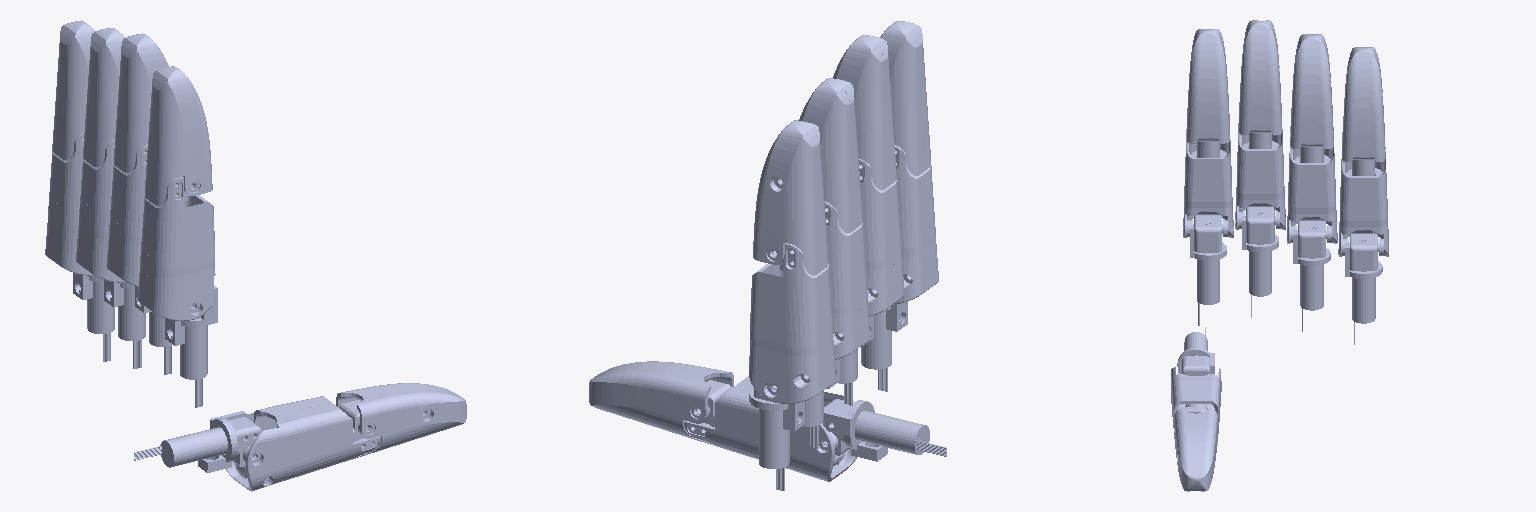
robot.urdf — left_gaiahand:
<?xml version="1.0" encoding="utf-8"?>
<!-- This URDF was automatically created by SolidWorks to URDF Exporter! Originally created by Stephen Brawner (brawner@gmail.com) 
     Commit Version: 1.6.0-4-g7f85cfe  Build Version: 1.6.7995.38578
     For more information, please see http://wiki.ros.org/sw_urdf_exporter -->
<robot
  name="left_gaiahand">
  <link
    name="left_base_link">
    <inertial>
      <origin
        xyz="-0.0284477492390247 0.000542790881224919 0.076706739748753"
        rpy="0 0 0" />
      <mass
        value="0.173722811353607" />
      <inertia
        ixx="0.000318190673792662"
        ixy="-1.91565322855582E-07"
        ixz="1.74042617609063E-05"
        iyy="0.000212901712165703"
        iyz="7.13837155170364E-07"
        izz="0.000130954384314833" />
    </inertial>
    <visual>
      <origin
        xyz="0 0 0"
        rpy="0 0 0" />
      <geometry>
        <mesh
          filename="meshes/left_base_link.STL" />
      </geometry>
      <material
        name="">
        <color
          rgba="0.792156862745098 0.819607843137255 0.933333333333333 1" />
      </material>
    </visual>
    <collision>
      <origin
        xyz="0 0 0"
        rpy="0 0 0" />
      <geometry>
        <mesh
          filename="meshes/left_base_link.STL" />
      </geometry>
    </collision>
  </link>
  <link
    name="left_thumb_link_1">
    <inertial>
      <origin
        xyz="0.00247402344171999 0.000249459798458924 0.00393402043351931"
        rpy="0 0 0" />
      <mass
        value="0.00397641751207284" />
      <inertia
        ixx="9.52539334417355E-08"
        ixy="-5.13338778559484E-09"
        ixz="-7.42287401161244E-09"
        iyy="1.0516919539407E-07"
        iyz="-5.02436651239461E-09"
        izz="9.48032374107921E-08" />
    </inertial>
    <visual>
      <origin
        xyz="0 0 0"
        rpy="0 0 0" />
      <geometry>
        <mesh
          filename="meshes/left_thumb_link_1.STL" />
      </geometry>
      <material
        name="">
        <color
          rgba="0.792156862745098 0.819607843137255 0.933333333333333 1" />
      </material>
    </visual>
    <collision>
      <origin
        xyz="0 0 0"
        rpy="0 0 0" />
      <geometry>
        <mesh
          filename="meshes/left_thumb_link_1.STL" />
      </geometry>
    </collision>
  </link>
  <joint
    name="left_thumb_joint_1"
    type="revolute">
    <origin
      xyz="0.011787 -0.033111 0.08849"
      rpy="1.4951E-05 -0.0036834 0" />
    <parent
      link="left_base_link" />
    <child
      link="left_thumb_link_1" />
    <axis
      xyz="0 0 1" />
    <limit
      lower="-1.05"
      upper="0.349"
      effort="0"
      velocity="0" />
  </joint>
  <link
    name="left_thumb_link_2">
    <inertial>
      <origin
        xyz="0.0265067811213511 -0.00399585693692422 0.000138895991577369"
        rpy="0 0 0" />
      <mass
        value="0.00875851577491426" />
      <inertia
        ixx="4.40292995417802E-07"
        ixy="-4.83371504097576E-08"
        ixz="5.01880663603282E-08"
        iyy="1.04274509553691E-06"
        iyz="2.17943184616637E-09"
        izz="1.27400277195124E-06" />
    </inertial>
    <visual>
      <origin
        xyz="0 0 0"
        rpy="0 0 0" />
      <geometry>
        <mesh
          filename="meshes/left_thumb_link_2.STL" />
      </geometry>
      <material
        name="">
        <color
          rgba="0.792156862745098 0.819607843137255 0.933333333333333 1" />
      </material>
    </visual>
    <collision>
      <origin
        xyz="0 0 0"
        rpy="0 0 0" />
      <geometry>
        <mesh
          filename="meshes/left_thumb_link_2.STL" />
      </geometry>
    </collision>
  </link>
  <joint
    name="left_thumb_joint_2"
    type="revolute">
    <origin
      xyz="0.013 0 0"
      rpy="1.5708 0 0" />
    <parent
      link="left_thumb_link_1" />
    <child
      link="left_thumb_link_2" />
    <axis
      xyz="0 0 1" />
    <limit
      lower="0"
      upper="1.05"
      effort="0"
      velocity="0" />
  </joint>
  <link
    name="left_thumb_link_3">
    <inertial>
      <origin
        xyz="0.0192830777791346 -0.00198397475349806 -0.000167205014019504"
        rpy="0 0 0" />
      <mass
        value="0.00409358650492291" />
      <inertia
        ixx="1.96807204522082E-07"
        ixy="3.86407695726891E-08"
        ixz="-2.649643192699E-09"
        iyy="6.67069325890553E-07"
        iyz="-1.83415949975503E-09"
        izz="8.03398335641798E-07" />
    </inertial>
    <visual>
      <origin
        xyz="0 0 0"
        rpy="0 0 0" />
      <geometry>
        <mesh
          filename="meshes/left_thumb_link_3.STL" />
      </geometry>
      <material
        name="">
        <color
          rgba="0.792156862745098 0.819607843137255 0.933333333333333 1" />
      </material>
    </visual>
    <collision>
      <origin
        xyz="0 0 0"
        rpy="0 0 0" />
      <geometry>
        <mesh
          filename="meshes/left_thumb_link_3.STL" />
      </geometry>
    </collision>
  </link>
  <joint
    name="left_thumb_joint_3"
    type="revolute">
    <origin
      xyz="0.047603 0 0"
      rpy="0 0 0" />
    <parent
      link="left_thumb_link_2" />
    <child
      link="left_thumb_link_3" />
    <axis
      xyz="0 0 1" />
    <limit
      lower="0"
      upper="1.57"
      effort="0"
      velocity="0" />
  </joint>
  <link
    name="left_index_link_1">
    <inertial>
      <origin
        xyz="0.00247402364993433 0.000249460126856879 0.00393402045604851"
        rpy="0 0 0" />
      <mass
        value="0.00397641756999917" />
      <inertia
        ixx="9.5253936720187E-08"
        ixy="-5.13338929494493E-09"
        ixz="-7.42287485418567E-09"
        iyy="1.05169196970933E-07"
        iyz="-5.0243665844397E-09"
        izz="9.4803240793605E-08" />
    </inertial>
    <visual>
      <origin
        xyz="0 0 0"
        rpy="0 0 0" />
      <geometry>
        <mesh
          filename="meshes/left_index_link_1.STL" />
      </geometry>
      <material
        name="">
        <color
          rgba="0.792156862745098 0.819607843137255 0.933333333333333 1" />
      </material>
    </visual>
    <collision>
      <origin
        xyz="0 0 0"
        rpy="0 0 0" />
      <geometry>
        <mesh
          filename="meshes/left_index_link_1.STL" />
      </geometry>
    </collision>
  </link>
  <joint
    name="left_index_joint_1"
    type="revolute">
    <origin
      xyz="0.0025677 -0.027928 0.13801"
      rpy="-3.1416 -1.5671 0" />
    <parent
      link="left_base_link" />
    <child
      link="left_index_link_1" />
    <axis
      xyz="0 0 1" />
    <limit
      lower="-0.262"
      upper="0.262"
      effort="0"
      velocity="0" />
  </joint>
  <link
    name="left_index_link_2">
    <inertial>
      <origin
        xyz="0.0265067812458975 -0.00399585697843308 0.000138896177086574"
        rpy="0 0 0" />
      <mass
        value="0.00875851587279157" />
      <inertia
        ixx="4.40293000445529E-07"
        ixy="-4.83371510161528E-08"
        ixz="5.01880650413538E-08"
        iyy="1.04274509841957E-06"
        iyz="2.17943282693837E-09"
        izz="1.27400277632651E-06" />
    </inertial>
    <visual>
      <origin
        xyz="0 0 0"
        rpy="0 0 0" />
      <geometry>
        <mesh
          filename="meshes/left_index_link_2.STL" />
      </geometry>
      <material
        name="">
        <color
          rgba="0.792156862745098 0.819607843137255 0.933333333333333 1" />
      </material>
    </visual>
    <collision>
      <origin
        xyz="0 0 0"
        rpy="0 0 0" />
      <geometry>
        <mesh
          filename="meshes/left_index_link_2.STL" />
      </geometry>
    </collision>
  </link>
  <joint
    name="left_index_joint_2"
    type="revolute">
    <origin
      xyz="0.013 0 0"
      rpy="1.5708 0 0" />
    <parent
      link="left_index_link_1" />
    <child
      link="left_index_link_2" />
    <axis
      xyz="0 0 1" />
    <limit
      lower="-0.349"
      upper="1.57"
      effort="0"
      velocity="0" />
  </joint>
  <link
    name="left_index_link_3">
    <inertial>
      <origin
        xyz="0.0192830994134968 -0.00198376763428931 -0.000167205801145938"
        rpy="0 0 0" />
      <mass
        value="0.004093586065221" />
      <inertia
        ixx="1.96806357873805E-07"
        ixy="3.86357010726856E-08"
        ixz="-2.64962689365868E-09"
        iyy="6.67070158147784E-07"
        iyz="-1.83418257848878E-09"
        izz="8.03398326627335E-07" />
    </inertial>
    <visual>
      <origin
        xyz="0 0 0"
        rpy="0 0 0" />
      <geometry>
        <mesh
          filename="meshes/left_index_link_3.STL" />
      </geometry>
      <material
        name="">
        <color
          rgba="0.792156862745098 0.819607843137255 0.933333333333333 1" />
      </material>
    </visual>
    <collision>
      <origin
        xyz="0 0 0"
        rpy="0 0 0" />
      <geometry>
        <mesh
          filename="meshes/left_index_link_3.STL" />
      </geometry>
    </collision>
  </link>
  <joint
    name="left_index_joint_3"
    type="revolute">
    <origin
      xyz="0.047603 0 0"
      rpy="0 0 0" />
    <parent
      link="left_index_link_2" />
    <child
      link="left_index_link_3" />
    <axis
      xyz="0 0 1" />
    <limit
      lower="0"
      upper="1.57"
      effort="0"
      velocity="0" />
  </joint>
  <link
    name="left_middle_link_1">
    <inertial>
      <origin
        xyz="0.00247402364993506 0.000249460126853958 0.00393402045605029"
        rpy="0 0 0" />
      <mass
        value="0.00397641756999916" />
      <inertia
        ixx="9.52539367201855E-08"
        ixy="-5.13338929494586E-09"
        ixz="-7.42287485418621E-09"
        iyy="1.05169196970934E-07"
        iyz="-5.02436658443915E-09"
        izz="9.48032407936072E-08" />
    </inertial>
    <visual>
      <origin
        xyz="0 0 0"
        rpy="0 0 0" />
      <geometry>
        <mesh
          filename="meshes/left_middle_link_1.STL" />
      </geometry>
      <material
        name="">
        <color
          rgba="0.792156862745098 0.819607843137255 0.933333333333333 1" />
      </material>
    </visual>
    <collision>
      <origin
        xyz="0 0 0"
        rpy="0 0 0" />
      <geometry>
        <mesh
          filename="meshes/left_middle_link_1.STL" />
      </geometry>
    </collision>
  </link>
  <joint
    name="left_middle_joint_1"
    type="revolute">
    <origin
      xyz="0.0025677 -0.0057234 0.14197"
      rpy="-3.1416 -1.5671 0" />
    <parent
      link="left_base_link" />
    <child
      link="left_middle_link_1" />
    <axis
      xyz="0 0 1" />
    <limit
      lower="-0.401"
      upper="0.314"
      effort="0"
      velocity="0" />
  </joint>
  <link
    name="left_middle_link_2">
    <inertial>
      <origin
        xyz="0.026506781289745 -0.00399585694636873 0.000138896146654036"
        rpy="0 0 0" />
      <mass
        value="0.00875851582996083" />
      <inertia
        ixx="4.40292998690411E-07"
        ixy="-4.83371496718386E-08"
        ixz="5.01880648745607E-08"
        iyy="1.04274509839018E-06"
        iyz="2.17943192946917E-09"
        izz="1.27400277291926E-06" />
    </inertial>
    <visual>
      <origin
        xyz="0 0 0"
        rpy="0 0 0" />
      <geometry>
        <mesh
          filename="meshes/left_middle_link_2.STL" />
      </geometry>
      <material
        name="">
        <color
          rgba="0.792156862745098 0.819607843137255 0.933333333333333 1" />
      </material>
    </visual>
    <collision>
      <origin
        xyz="0 0 0"
        rpy="0 0 0" />
      <geometry>
        <mesh
          filename="meshes/left_middle_link_2.STL" />
      </geometry>
    </collision>
  </link>
  <joint
    name="left_middle_joint_2"
    type="revolute">
    <origin
      xyz="0.013 0 0"
      rpy="1.5708 0 0" />
    <parent
      link="left_middle_link_1" />
    <child
      link="left_middle_link_2" />
    <axis
      xyz="0 0 1" />
    <limit
      lower="-0.349"
      upper="1.57"
      effort="0"
      velocity="0" />
  </joint>
  <link
    name="left_middle_link_3">
    <inertial>
      <origin
        xyz="0.0192830991538157 -0.0019837671038605 -0.00016720500504246"
        rpy="0 0 0" />
      <mass
        value="0.00409358650689472" />
      <inertia
        ixx="1.9680637230401E-07"
        ixy="3.86357057253407E-08"
        ixz="-2.64962339335825E-09"
        iyy="6.67070158814771E-07"
        iyz="-1.8341880442882E-09"
        izz="8.03398336401037E-07" />
    </inertial>
    <visual>
      <origin
        xyz="0 0 0"
        rpy="0 0 0" />
      <geometry>
        <mesh
          filename="meshes/left_middle_link_3.STL" />
      </geometry>
      <material
        name="">
        <color
          rgba="0.792156862745098 0.819607843137255 0.933333333333333 1" />
      </material>
    </visual>
    <collision>
      <origin
        xyz="0 0 0"
        rpy="0 0 0" />
      <geometry>
        <mesh
          filename="meshes/left_middle_link_3.STL" />
      </geometry>
    </collision>
  </link>
  <joint
    name="left_middle_joint_3"
    type="revolute">
    <origin
      xyz="0.047603 0 0"
      rpy="0 0 0" />
    <parent
      link="left_middle_link_2" />
    <child
      link="left_middle_link_3" />
    <axis
      xyz="0 0 1" />
    <limit
      lower="0"
      upper="1.57"
      effort="0"
      velocity="0" />
  </joint>
  <link
    name="left_ring_link_1">
    <inertial>
      <origin
        xyz="0.0024740236263075 0.000249460126857021 0.00393402039359114"
        rpy="0 0 0" />
      <mass
        value="0.00397641756999935" />
      <inertia
        ixx="9.52539368082794E-08"
        ixy="-5.1333892651324E-09"
        ixz="-7.42287485151211E-09"
        iyy="1.05169196970936E-07"
        iyz="-5.0243666148998E-09"
        izz="9.48032407055177E-08" />
    </inertial>
    <visual>
      <origin
        xyz="0 0 0"
        rpy="0 0 0" />
      <geometry>
        <mesh
          filename="meshes/left_ring_link_1.STL" />
      </geometry>
      <material
        name="">
        <color
          rgba="0.792156862745098 0.819607843137255 0.933333333333333 1" />
      </material>
    </visual>
    <collision>
      <origin
        xyz="0 0 0"
        rpy="0 0 0" />
      <geometry>
        <mesh
          filename="meshes/left_ring_link_1.STL" />
      </geometry>
    </collision>
  </link>
  <joint
    name="left_ring_joint_1"
    type="revolute">
    <origin
      xyz="0.0025677 0.016251 0.13545"
      rpy="-3.1416 -1.5671 0" />
    <parent
      link="left_base_link" />
    <child
      link="left_ring_link_1" />
    <axis
      xyz="0 0 1" />
    <limit
      lower="-0.349"
      upper="0.175"
      effort="0"
      velocity="0" />
  </joint>
  <link
    name="left_ring_link_2">
    <inertial>
      <origin
        xyz="0.0265067813134706 -0.00399585678908432 0.00013889614665224"
        rpy="0 0 0" />
      <mass
        value="0.00875851582996085" />
      <inertia
        ixx="4.40292999264048E-07"
        ixy="-4.83371532466806E-08"
        ixz="5.01880648616304E-08"
        iyy="1.0427450978166E-06"
        iyz="2.17943222727404E-09"
        izz="1.27400277291932E-06" />
    </inertial>
    <visual>
      <origin
        xyz="0 0 0"
        rpy="0 0 0" />
      <geometry>
        <mesh
          filename="meshes/left_ring_link_2.STL" />
      </geometry>
      <material
        name="">
        <color
          rgba="0.792156862745098 0.819607843137255 0.933333333333333 1" />
      </material>
    </visual>
    <collision>
      <origin
        xyz="0 0 0"
        rpy="0 0 0" />
      <geometry>
        <mesh
          filename="meshes/left_ring_link_2.STL" />
      </geometry>
    </collision>
  </link>
  <joint
    name="left_ring_joint_2"
    type="revolute">
    <origin
      xyz="0.013 0 0"
      rpy="1.5708 0 0" />
    <parent
      link="left_ring_link_1" />
    <child
      link="left_ring_link_2" />
    <axis
      xyz="0 0 1" />
    <limit
      lower="-0.349"
      upper="1.57"
      effort="0"
      velocity="0" />
  </joint>
  <link
    name="left_ring_link_3">
    <inertial>
      <origin
        xyz="0.0192830997770847 -0.00198376670697287 -0.000167205005045462"
        rpy="0 0 0" />
      <mass
        value="0.00409358650689493" />
      <inertia
        ixx="1.9680637184551E-07"
        ixy="3.86357029349086E-08"
        ixz="-2.64962338247208E-09"
        iyy="6.67070159273325E-07"
        iyz="-1.83418806000956E-09"
        izz="8.03398336401086E-07" />
    </inertial>
    <visual>
      <origin
        xyz="0 0 0"
        rpy="0 0 0" />
      <geometry>
        <mesh
          filename="meshes/left_ring_link_3.STL" />
      </geometry>
      <material
        name="">
        <color
          rgba="0.792156862745098 0.819607843137255 0.933333333333333 1" />
      </material>
    </visual>
    <collision>
      <origin
        xyz="0 0 0"
        rpy="0 0 0" />
      <geometry>
        <mesh
          filename="meshes/left_ring_link_3.STL" />
      </geometry>
    </collision>
  </link>
  <joint
    name="left_ring_joint_3"
    type="revolute">
    <origin
      xyz="0.047603 0 0"
      rpy="0 0 0" />
    <parent
      link="left_ring_link_2" />
    <child
      link="left_ring_link_3" />
    <axis
      xyz="0 0 1" />
    <limit
      lower="0"
      upper="1.57"
      effort="0"
      velocity="0" />
  </joint>
  <link
    name="left_little_link_1">
    <inertial>
      <origin
        xyz="0.00247399557678699 0.000249460126865136 0.0039263989050613"
        rpy="0 0 0" />
      <mass
        value="0.0039764175699993" />
      <inertia
        ixx="9.52539367201893E-08"
        ixy="-5.13338929494489E-09"
        ixz="-7.42287485418595E-09"
        iyy="1.05169196970934E-07"
        iyz="-5.02436658444048E-09"
        izz="9.48032407936053E-08" />
    </inertial>
    <visual>
      <origin
        xyz="0 0 0"
        rpy="0 0 0" />
      <geometry>
        <mesh
          filename="meshes/left_little_link_1.STL" />
      </geometry>
      <material
        name="">
        <color
          rgba="0.792156862745098 0.819607843137255 0.933333333333333 1" />
      </material>
    </visual>
    <collision>
      <origin
        xyz="0 0 0"
        rpy="0 0 0" />
      <geometry>
        <mesh
          filename="meshes/left_little_link_1.STL" />
      </geometry>
    </collision>
  </link>
  <joint
    name="left_little_joint_1"
    type="revolute">
    <origin
      xyz="0.0025753 0.038291 0.12931"
      rpy="-3.1416 -1.5671 0" />
    <parent
      link="left_base_link" />
    <child
      link="left_little_link_1" />
    <axis
      xyz="0 0 1" />
    <limit
      lower="-0.349"
      upper="0.105"
      effort="0"
      velocity="0" />
  </joint>
  <link
    name="left_little_link_2">
    <inertial>
      <origin
        xyz="0.026506781289759 -0.00399585694637161 0.000138896146645095"
        rpy="0 0 0" />
      <mass
        value="0.00875851582996412" />
      <inertia
        ixx="4.4029299869061E-07"
        ixy="-4.83371496722441E-08"
        ixz="5.01880648745521E-08"
        iyy="1.04274509839081E-06"
        iyz="2.17943192947393E-09"
        izz="1.27400277292006E-06" />
    </inertial>
    <visual>
      <origin
        xyz="0 0 0"
        rpy="0 0 0" />
      <geometry>
        <mesh
          filename="meshes/left_little_link_2.STL" />
      </geometry>
      <material
        name="">
        <color
          rgba="0.792156862745098 0.819607843137255 0.933333333333333 1" />
      </material>
    </visual>
    <collision>
      <origin
        xyz="0 0 0"
        rpy="0 0 0" />
      <geometry>
        <mesh
          filename="meshes/left_little_link_2.STL" />
      </geometry>
    </collision>
  </link>
  <joint
    name="left_little_joint_2"
    type="revolute">
    <origin
      xyz="0.013 0 0"
      rpy="1.5708 0 0" />
    <parent
      link="left_little_link_1" />
    <child
      link="left_little_link_2" />
    <axis
      xyz="0 0 1" />
    <limit
      lower="-0.349"
      upper="1.57"
      effort="0"
      velocity="0" />
  </joint>
  <link
    name="left_little_link_3">
    <inertial>
      <origin
        xyz="0.0192830994134845 -0.0019837676342862 -0.000167205801153508"
        rpy="0 0 0" />
      <mass
        value="0.00409358606522048" />
      <inertia
        ixx="1.96806357873775E-07"
        ixy="3.86357010726577E-08"
        ixz="-2.64962689365451E-09"
        iyy="6.67070158147717E-07"
        iyz="-1.83418257849705E-09"
        izz="8.03398326627241E-07" />
    </inertial>
    <visual>
      <origin
        xyz="0 0 0"
        rpy="0 0 0" />
      <geometry>
        <mesh
          filename="meshes/left_little_link_3.STL" />
      </geometry>
      <material
        name="">
        <color
          rgba="0.792156862745098 0.819607843137255 0.933333333333333 1" />
      </material>
    </visual>
    <collision>
      <origin
        xyz="0 0 0"
        rpy="0 0 0" />
      <geometry>
        <mesh
          filename="meshes/left_little_link_3.STL" />
      </geometry>
    </collision>
  </link>
  <joint
    name="left_little_joint_3"
    type="revolute">
    <origin
      xyz="0.047603 0 0"
      rpy="0 0 0" />
    <parent
      link="left_little_link_2" />
    <child
      link="left_little_link_3" />
    <axis
      xyz="0 0 1" />
    <limit
      lower="0"
      upper="1.57"
      effort="0"
      velocity="0" />
  </joint>
</robot>

--- What the picture shows (computed from the rendered views, not written in the file) ---
3 views of the same robot in one strip: view 1: azimuth 30°, elevation 25°; view 2: azimuth 150°, elevation 25°; view 3: azimuth 270°, elevation 25° (orthographic).
Robot: left_gaiahand — 16 links, 15 joints (15 revolute); root link left_base_link; default pose: every joint at zero.
Links seen in each view (by area): view 1: left_index_link_2, left_thumb_link_2, left_index_link_3, left_thumb_link_3, left_middle_link_3, left_little_link_3, left_ring_link_3, left_thumb_link_1, left_middle_link_2, left_ring_link_2, left_little_link_2, left_index_link_1 (+3 smaller); view 2: left_little_link_2, left_little_link_3, left_thumb_link_3, left_thumb_link_2, left_middle_link_3, left_ring_link_3, left_index_link_3, left_ring_link_2, left_middle_link_2, left_index_link_2, left_thumb_link_1, left_little_link_1 (+3 smaller); view 3: left_ring_link_3, left_little_link_3, left_middle_link_3, left_index_link_3, left_index_link_2, left_ring_link_2, left_middle_link_2, left_little_link_2, left_thumb_link_3, left_ring_link_1, left_little_link_1, left_index_link_1 (+3 smaller).
Link boxes in pixels (bbox=[...]): left_index_link_2: bbox=[137, 177, 215, 320]; left_thumb_link_2: bbox=[226, 396, 380, 491]; left_index_link_3: bbox=[145, 66, 212, 205]; left_thumb_link_3: bbox=[336, 383, 466, 459]; left_middle_link_3: bbox=[114, 33, 168, 172]; left_little_link_3: bbox=[52, 20, 94, 159]; left_ring_link_3: bbox=[83, 28, 124, 166]; left_thumb_link_1: bbox=[134, 411, 260, 472]; left_middle_link_2: bbox=[106, 145, 147, 286]; left_ring_link_2: bbox=[76, 140, 124, 282]; left_little_link_2: bbox=[45, 133, 92, 275]; left_index_link_1: bbox=[165, 286, 217, 407]; left_little_link_2: bbox=[749, 243, 835, 403]; left_little_link_3: bbox=[753, 120, 828, 275]; left_thumb_link_3: bbox=[589, 361, 733, 446]; left_thumb_link_2: bbox=[684, 376, 856, 481]; left_middle_link_3: bbox=[833, 35, 896, 189]; left_ring_link_3: bbox=[799, 78, 862, 232]; left_index_link_3: bbox=[880, 21, 930, 175]; left_ring_link_2: bbox=[825, 202, 870, 359]; left_middle_link_2: bbox=[859, 159, 904, 316]; left_index_link_2: bbox=[893, 145, 938, 304]; left_thumb_link_1: bbox=[822, 399, 946, 461]; left_little_link_1: bbox=[749, 384, 804, 490]; left_ring_link_3: bbox=[1290, 34, 1333, 148]; left_little_link_3: bbox=[1342, 47, 1385, 162]; left_middle_link_3: bbox=[1239, 20, 1281, 135]; left_index_link_3: bbox=[1187, 29, 1229, 143]; left_index_link_2: bbox=[1183, 129, 1233, 237]; left_ring_link_2: bbox=[1287, 126, 1337, 243]; left_middle_link_2: bbox=[1235, 123, 1285, 229]; left_little_link_2: bbox=[1338, 132, 1388, 256]; left_thumb_link_3: bbox=[1174, 408, 1217, 491]; left_ring_link_1: bbox=[1293, 221, 1330, 331]; left_little_link_1: bbox=[1345, 234, 1382, 344]; left_index_link_1: bbox=[1190, 215, 1226, 325].
Size in the robot's own frame: 0.1344 by 0.0931 by 0.1731 metres.
Meshes: 16 distinct files referenced, 15 mesh visuals loaded (15 binary STL); not drawn: 1 (reference not matched to a file when rendering).
